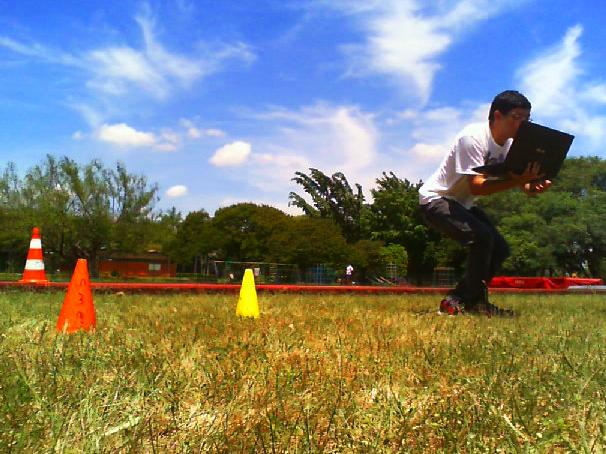0 cone: (55, 259, 96, 334), (15, 227, 50, 283), (235, 269, 262, 319)
